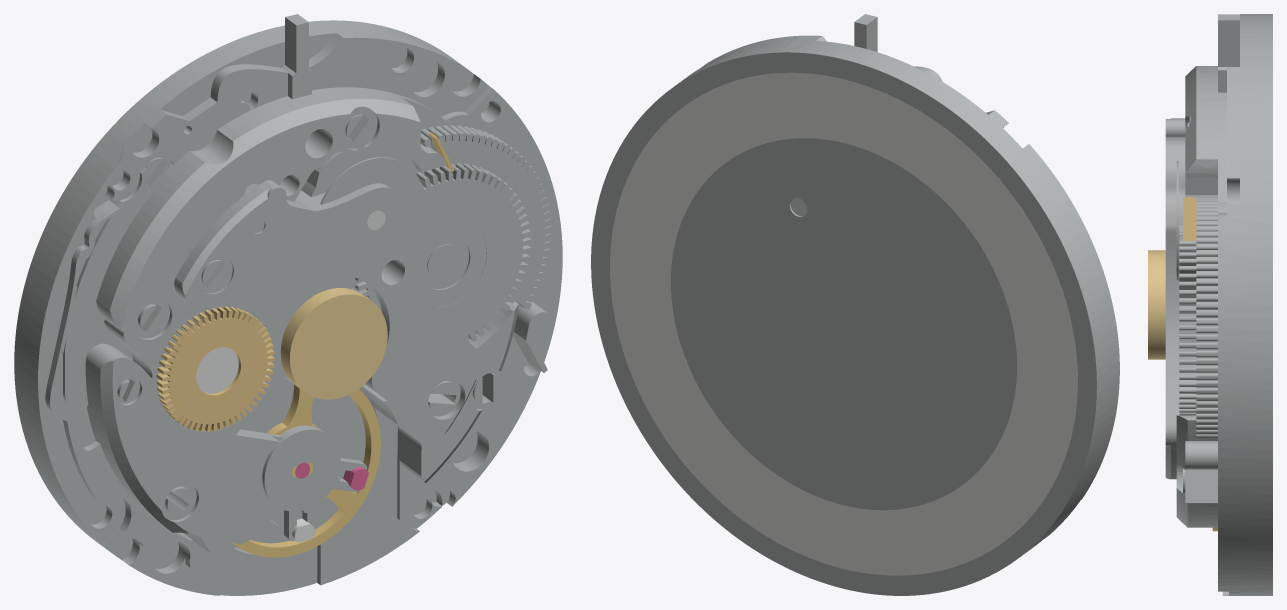
Rendered from Seiko-NH35-Movement.glb.
3 views of the same model, side by side, from view 1: azimuth 30°, elevation 25°; view 2: azimuth 150°, elevation 25°; view 3: azimuth 270°, elevation 25° (orthographic). The views are drawn at different scales.
Parts seen in each view (by area): view 1: NH35 integrated structural body (CAD body 01), NH35 wheel component 10, NH35 wheel / bridge component 07, NH35 train-wheel component 08, NH35 wheel / hub component 11; view 2: NH35 integrated structural body (CAD body 01), NH35 main plate (CAD body 12); view 3: NH35 integrated structural body (CAD body 01), NH35 wheel / bridge component 07, NH35 small mechanism component 09.
Boxes of the visible parts, box(x1,y1,x2,y2) form: NH35 integrated structural body (CAD body 01): box(14, 14, 562, 595); NH35 wheel component 10: box(156, 306, 274, 431); NH35 wheel / bridge component 07: box(280, 288, 387, 399); NH35 train-wheel component 08: box(231, 384, 380, 557); NH35 wheel / hub component 11: box(196, 347, 238, 393); NH35 integrated structural body (CAD body 01): box(591, 14, 1119, 595); NH35 main plate (CAD body 12): box(610, 72, 1077, 575); NH35 integrated structural body (CAD body 01): box(1165, 14, 1272, 595); NH35 wheel / bridge component 07: box(1148, 250, 1165, 359); NH35 small mechanism component 09: box(1183, 197, 1196, 240).
Size of the model in its own units: 27.61 by 28.85 by 5.92.
